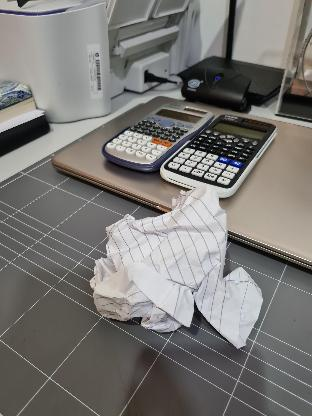Paper: (96, 190, 254, 341)
